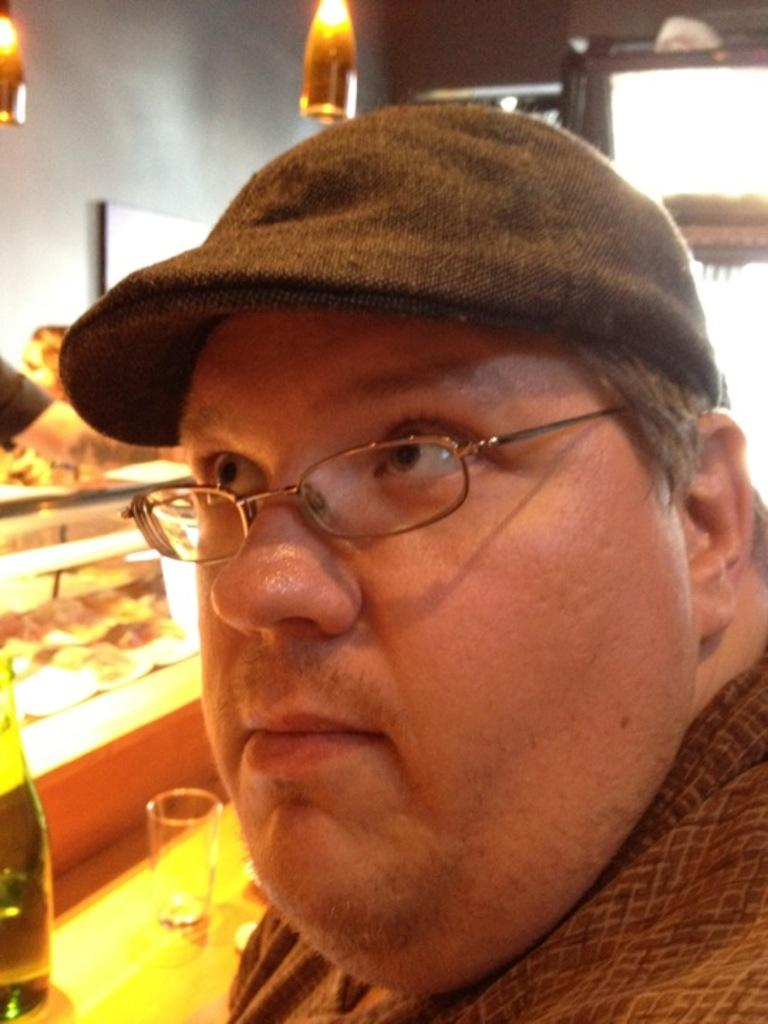Hat: (62, 104, 726, 444)
